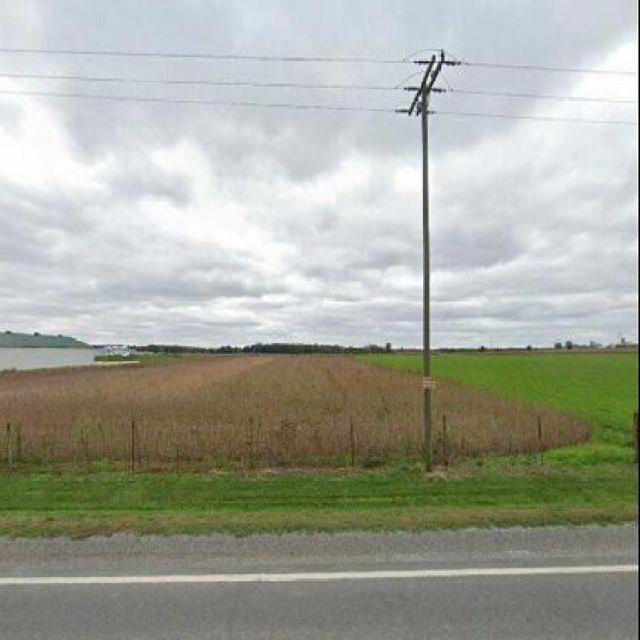pole: (391, 35, 460, 452)
